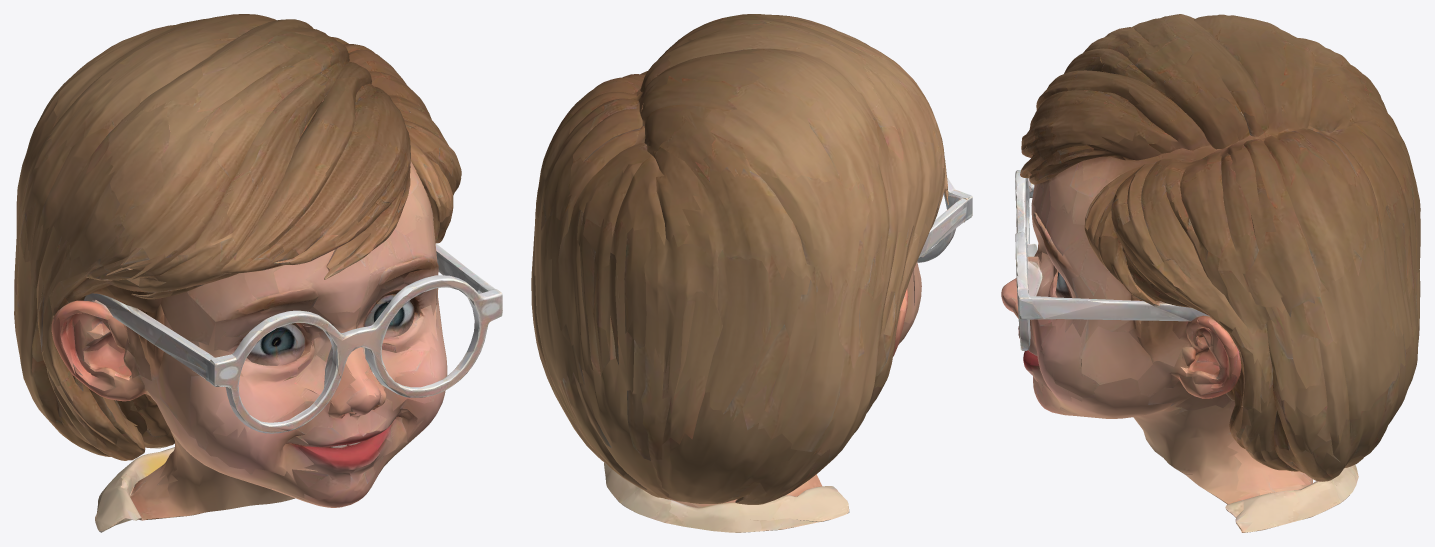
File: glasses_clear_prop.glb
3 views of the same model, side by side, from view 1: azimuth 30°, elevation 25°; view 2: azimuth 150°, elevation 25°; view 3: azimuth 270°, elevation 25° (orthographic). The views are drawn at different scales.
Visible parts, largest first — view 1: mesh_node; view 2: mesh_node; view 3: mesh_node.
Part boxes in pixels (box(x1,y1,x2,y2)): mesh_node: box(14, 14, 502, 532); mesh_node: box(531, 14, 972, 532); mesh_node: box(1001, 14, 1420, 532).
Size of the model in its own units: 1.55 by 1.9 by 1.66.
Materials: 1 (1 with a texture image).
